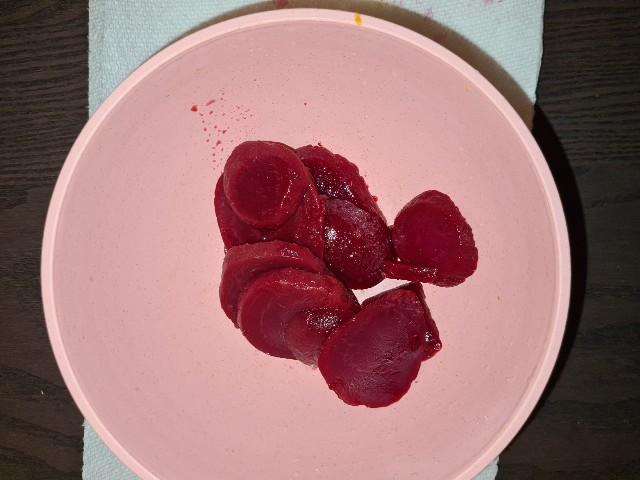kichen waste: (214, 140, 476, 408)
